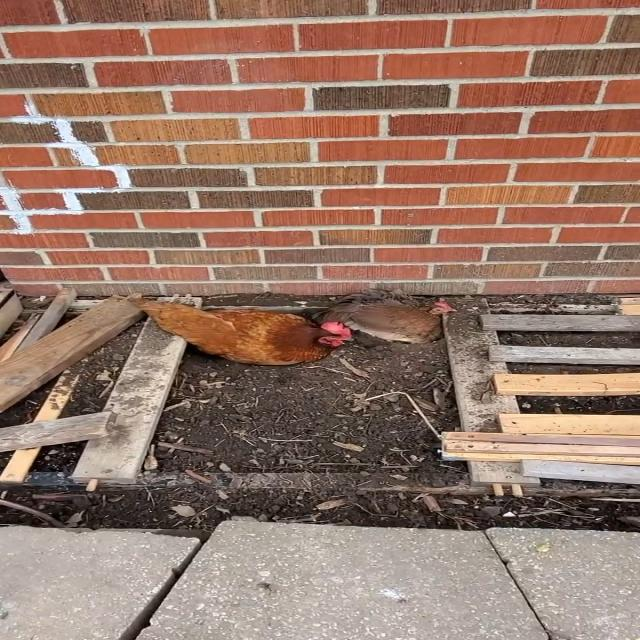stand bath: (130, 291, 363, 368), (316, 295, 459, 349)
